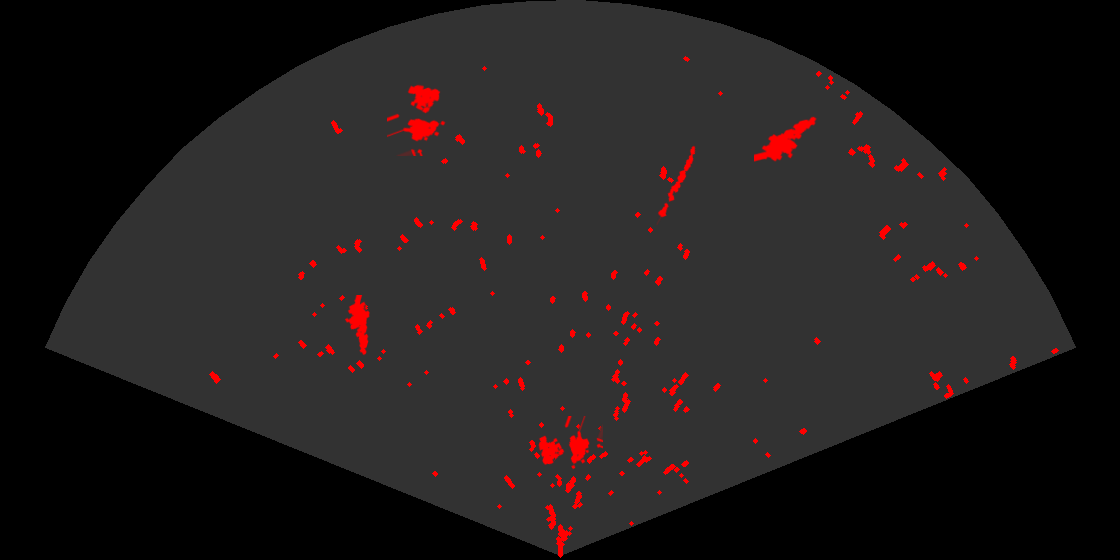cage: (387, 83, 447, 156), (537, 416, 603, 471)
chain: (655, 144, 697, 225)
frogman: (754, 115, 819, 163), (343, 295, 371, 356)
